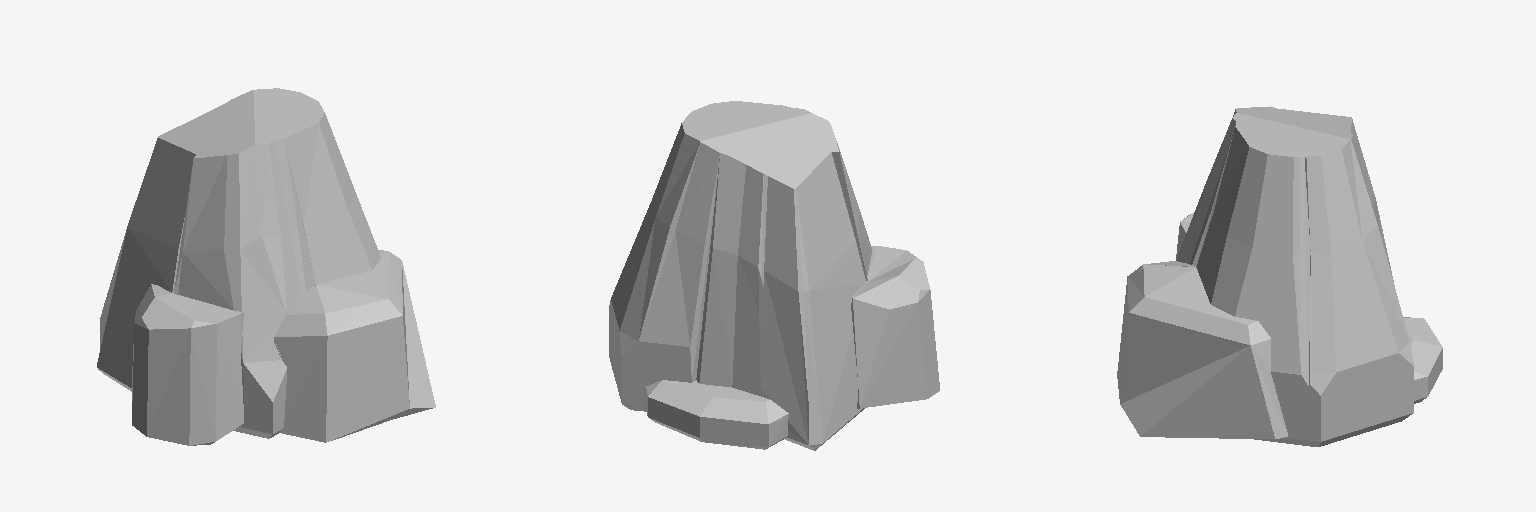
Rendered from Rocher.obj.
3 views of the same model, side by side, from view 1: azimuth 30°, elevation 25°; view 2: azimuth 150°, elevation 25°; view 3: azimuth 270°, elevation 25° (orthographic).
Visible parts, largest first — view 1: Rocher; view 2: Rocher; view 3: Rocher.
Boxes of the visible parts, <box> form: Rocher: <box>97,88,435,445</box>; Rocher: <box>609,101,939,450</box>; Rocher: <box>1117,106,1442,446</box>.
Size of the model in its own units: 102 by 90.93 by 101.